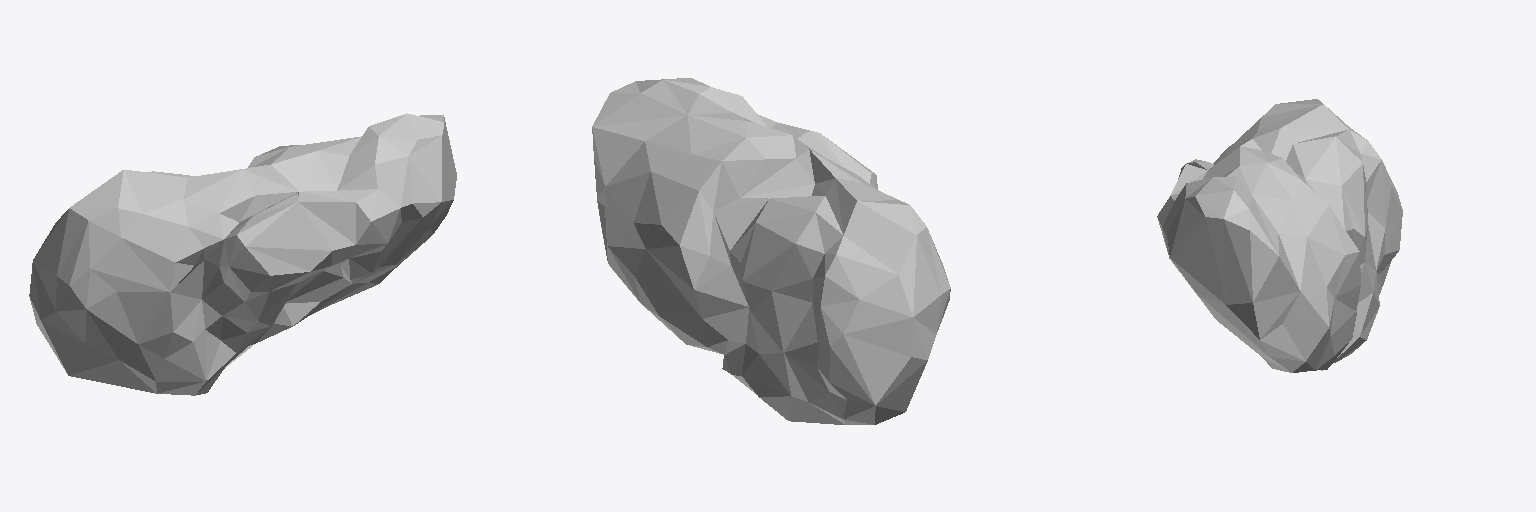
The model's file is rock.obj.
The picture shows the model from 3 angles: view 1: azimuth 30°, elevation 25°; view 2: azimuth 150°, elevation 25°; view 3: azimuth 270°, elevation 25°; orthographic projection.
Visible parts, largest first — view 1: defaultMaterial; view 2: defaultMaterial; view 3: defaultMaterial.
Boxes of the visible parts, x1,y1,x2,y2 form: defaultMaterial: [29, 113, 456, 395]; defaultMaterial: [592, 78, 950, 424]; defaultMaterial: [1157, 99, 1402, 372].
Bounding box in the file's own units: 5.91 × 3.86 × 3.35.